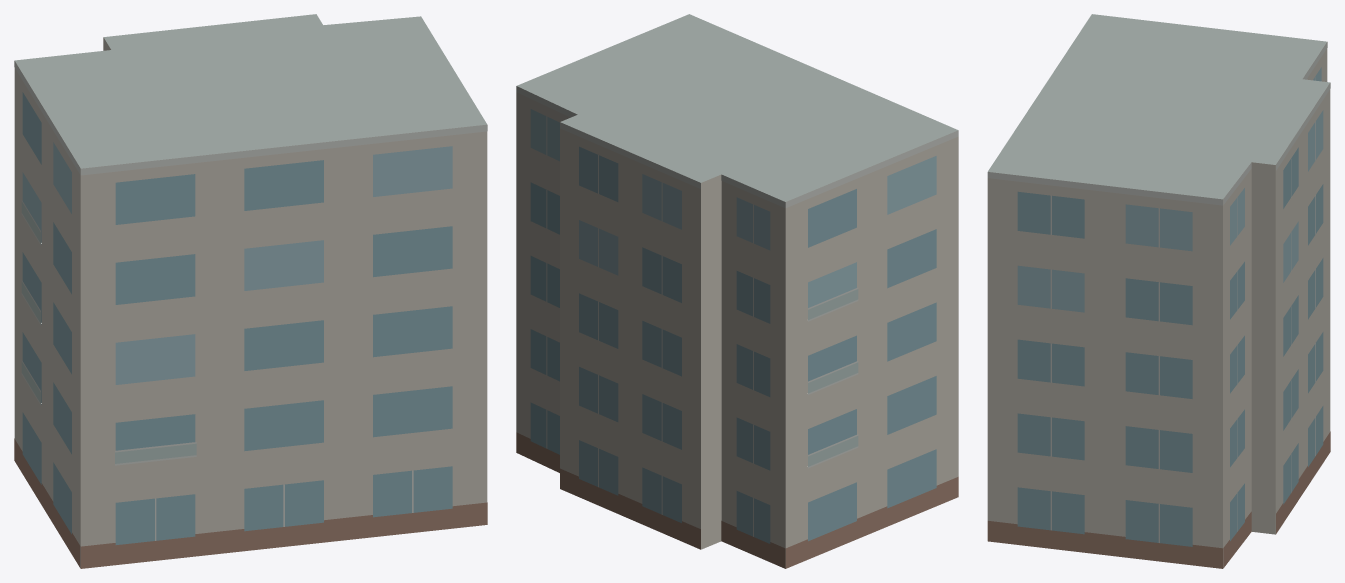
File: survey-upis-32741854.glb
The picture shows the model from 3 angles, left to right: view 1: azimuth 30°, elevation 25°; view 2: azimuth 150°, elevation 25°; view 3: azimuth 270°, elevation 25°; orthographic projection. The views are drawn at different scales.
Parts seen in each view (by area): view 1: survey-upis-32741854.tmp; view 2: survey-upis-32741854.tmp; view 3: survey-upis-32741854.tmp.
Part boxes in pixels (bbox=[...]): survey-upis-32741854.tmp: bbox=[14, 14, 487, 568]; survey-upis-32741854.tmp: bbox=[516, 14, 958, 568]; survey-upis-32741854.tmp: bbox=[987, 14, 1330, 568].
Bounding box in the file's own units: 15.39 × 14.3 × 12.03.
